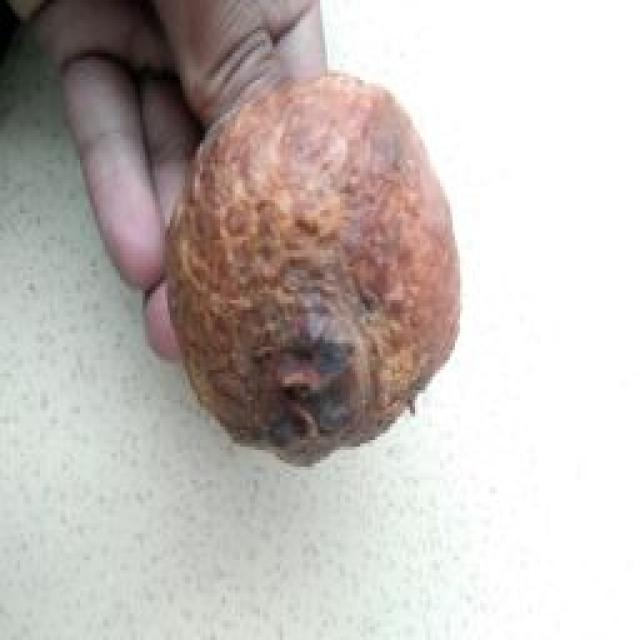Bad_Guava: (169, 75, 459, 462)
